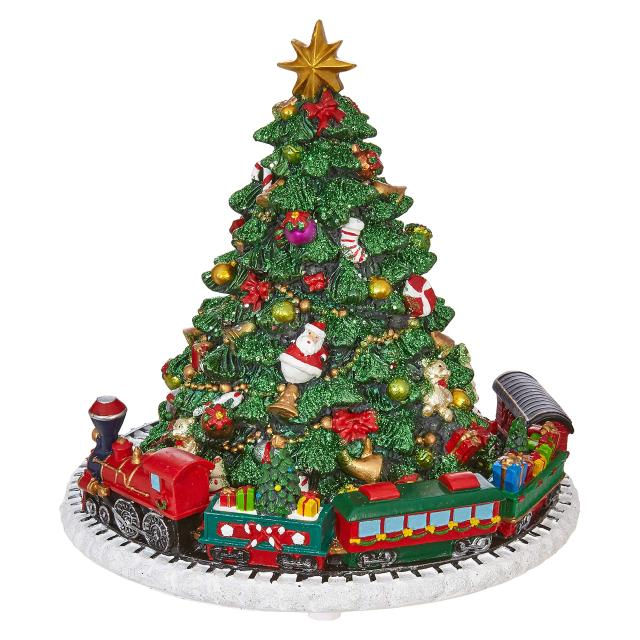Christmas-tree: (152, 12, 492, 456)
